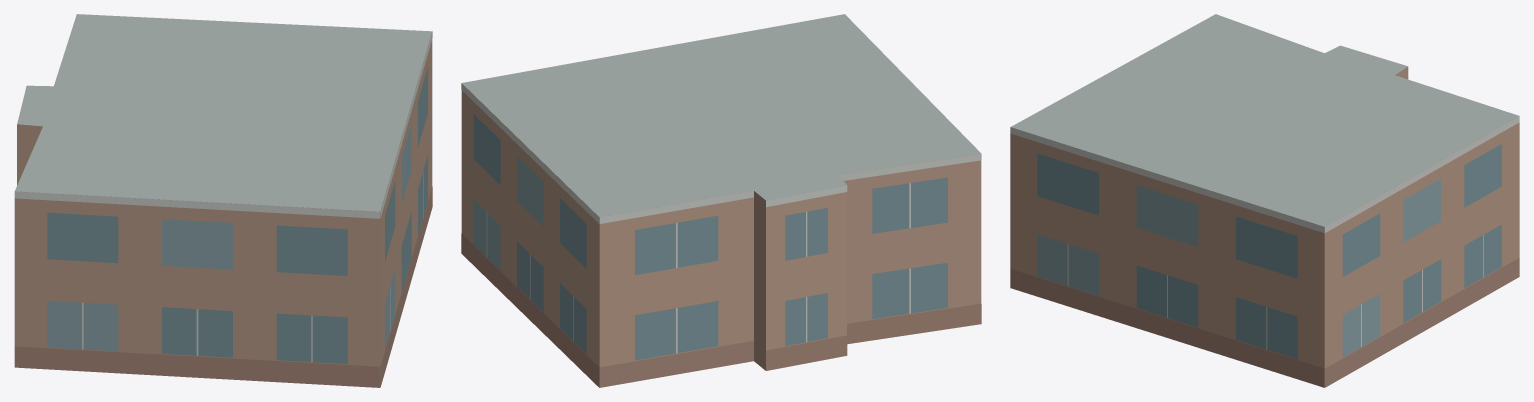
The model's file is survey-upis-32885295.glb.
3 views of the same model, side by side, from view 1: azimuth 30°, elevation 25°; view 2: azimuth 150°, elevation 25°; view 3: azimuth 270°, elevation 25° (orthographic). The views are drawn at different scales.
Parts seen in each view (by area): view 1: survey-upis-32885295.tmp; view 2: survey-upis-32885295.tmp; view 3: survey-upis-32885295.tmp.
Part boxes in pixels (box(x1,y1,x2,y2)): survey-upis-32885295.tmp: box(14, 14, 432, 387); survey-upis-32885295.tmp: box(461, 14, 981, 387); survey-upis-32885295.tmp: box(1010, 14, 1519, 387).
Size of the model in its own units: 17.31 by 6.1 by 17.49.
